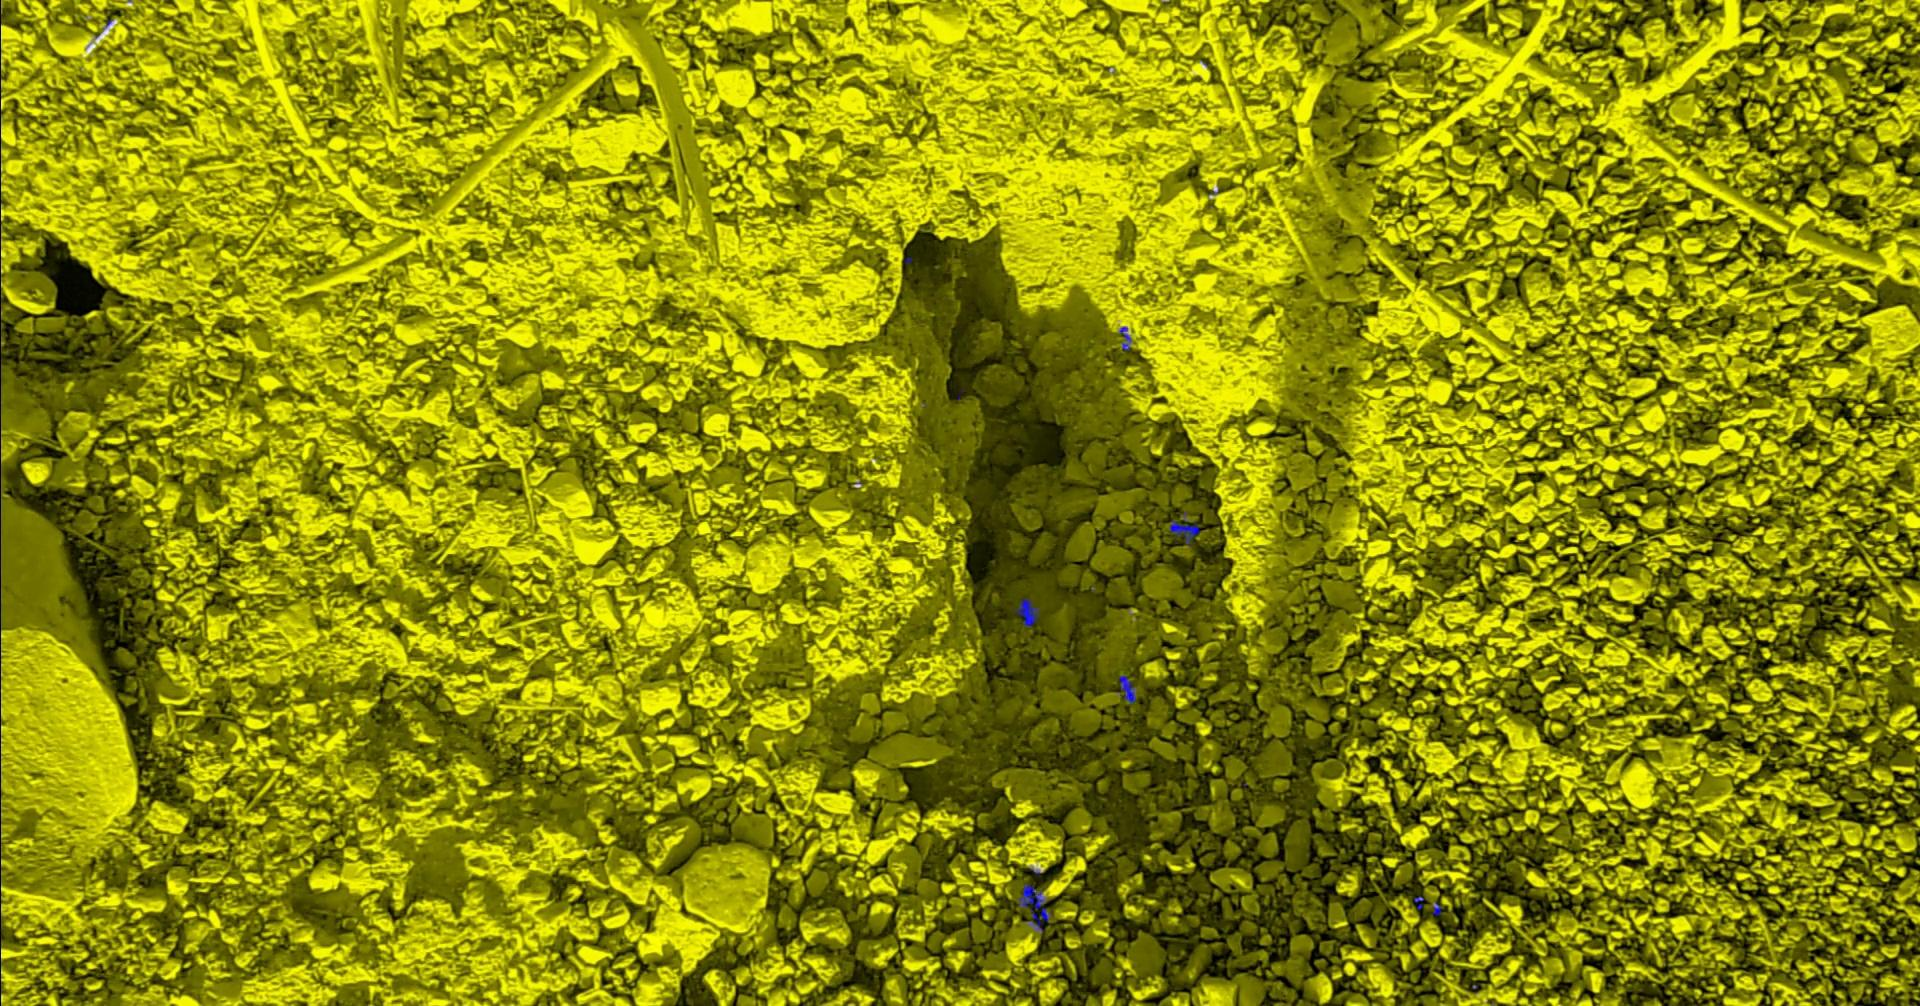ant: (1017, 883, 1051, 934), (1168, 511, 1200, 545), (1012, 598, 1039, 626), (1117, 674, 1137, 702), (1117, 326, 1131, 351)
